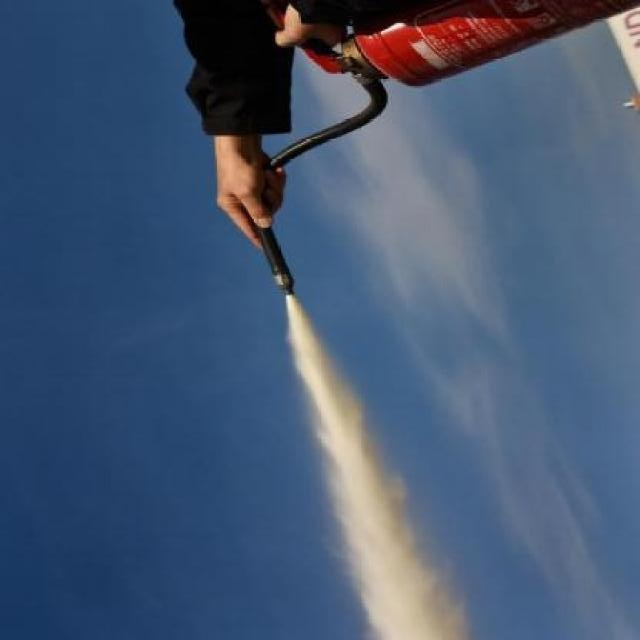fire extinguisher: (251, 0, 640, 296)
